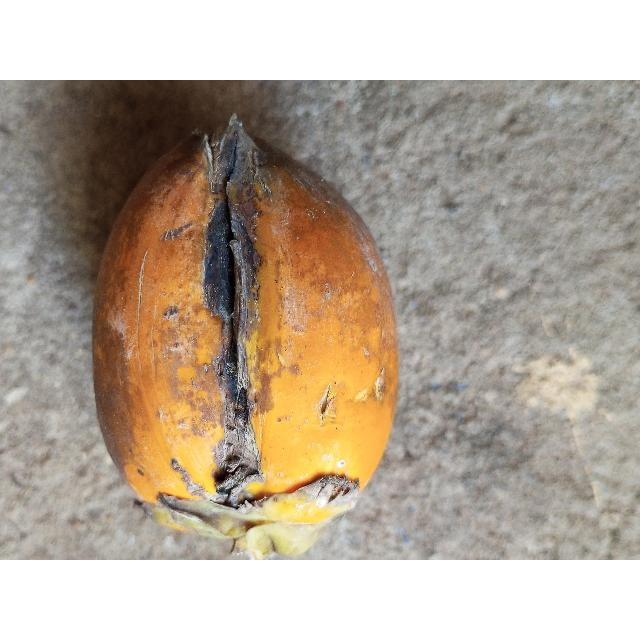damaged: (91, 116, 400, 560)
